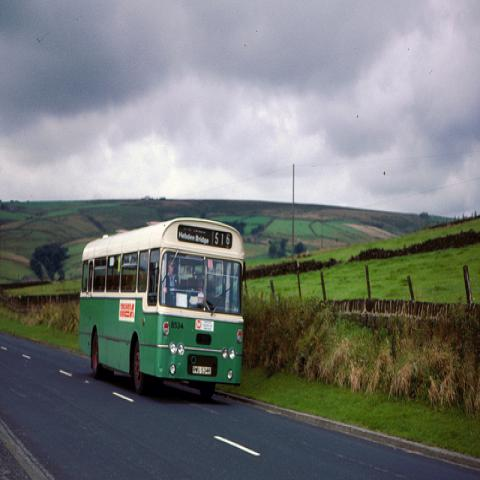bus: (78, 216, 246, 402)
